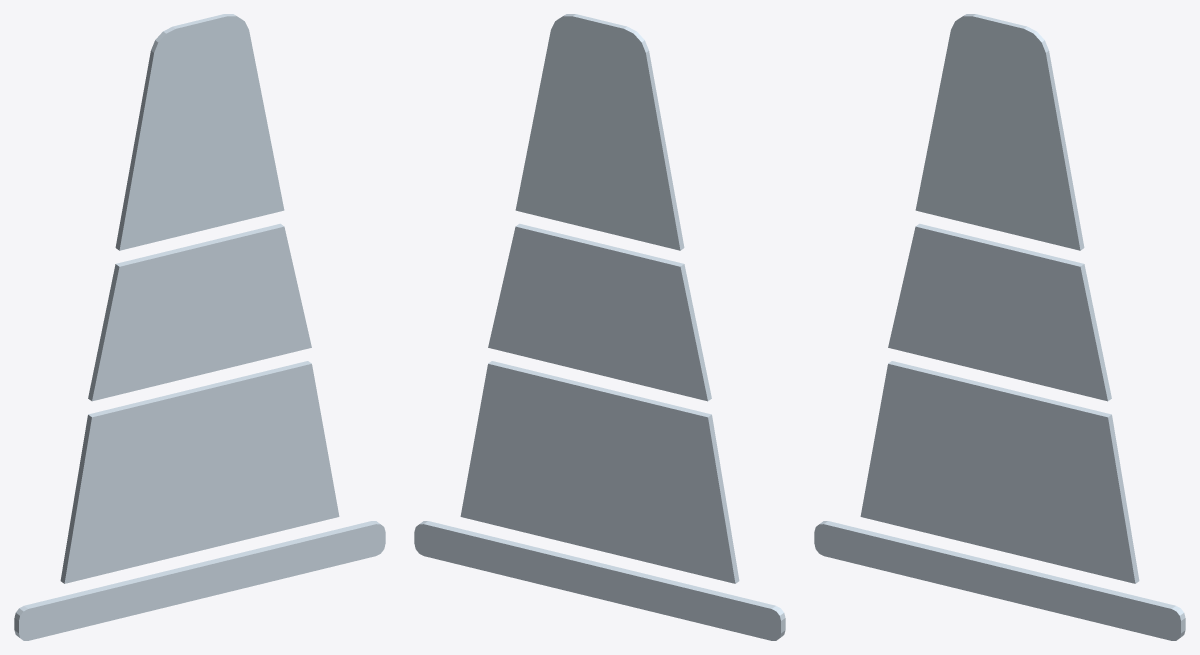
Rendered from Traffic_Cone_3D_Icon.fbx.
3 renders of one model, left to right at view 1: azimuth 30°, elevation 25°; view 2: azimuth 150°, elevation 25°; view 3: azimuth 330°, elevation 25°, orthographic.
Visible parts, largest first — view 1: Traffic_Cone_3D_Icon; view 2: Traffic_Cone_3D_Icon; view 3: Traffic_Cone_3D_Icon.
Part boxes in pixels (<box>): Traffic_Cone_3D_Icon: <box>14,14,385,640</box>; Traffic_Cone_3D_Icon: <box>414,14,785,640</box>; Traffic_Cone_3D_Icon: <box>814,14,1185,640</box>.
Bounding box in the file's own units: 96 × 144 × 2.
